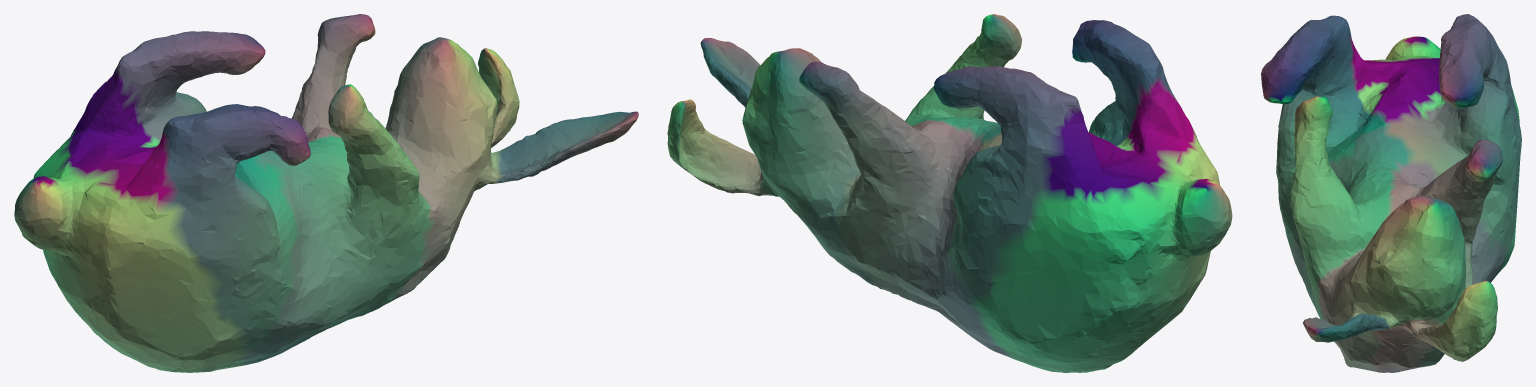
The model's file is rabbit-11.off.obj.
3 renders of one model, left to right at view 1: azimuth 30°, elevation 25°; view 2: azimuth 150°, elevation 25°; view 3: azimuth 270°, elevation 25°, orthographic. The views are drawn at different scales.
Size of the model in its own units: 1.53 by 0.7881 by 0.6104.
